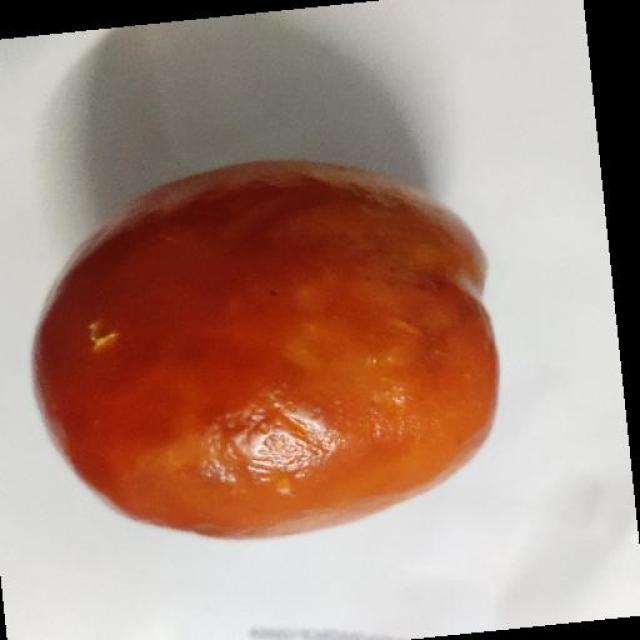Stale_tomato: (34, 187, 490, 502)
